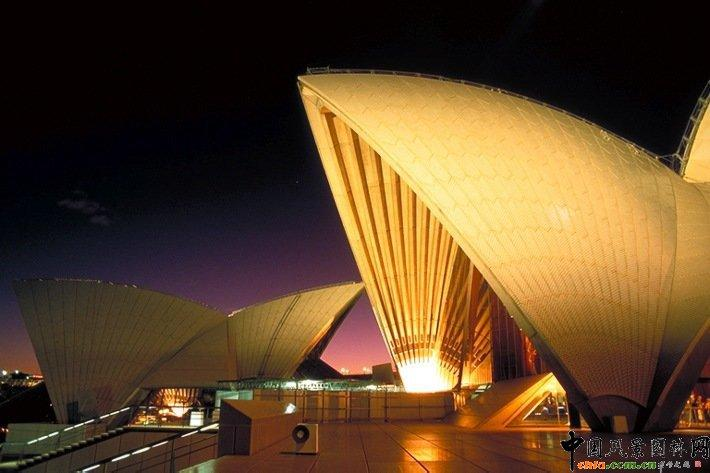buildings: (291, 79, 709, 439), (10, 262, 369, 441)
